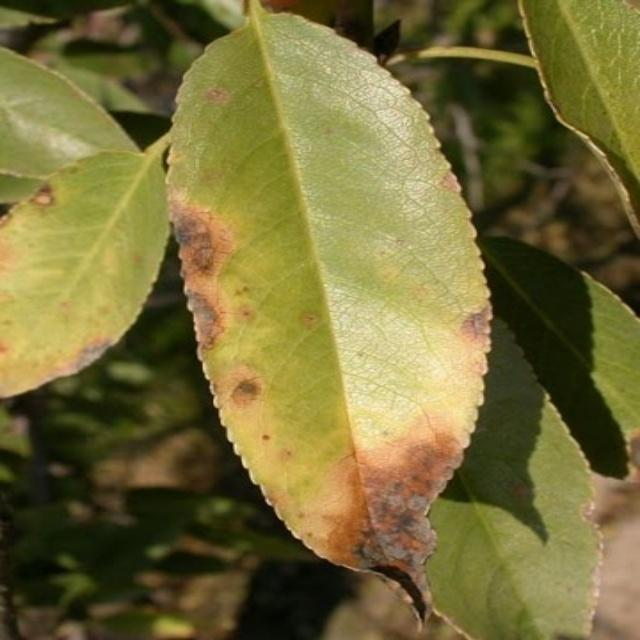shot_hole: (165, 8, 498, 634)
